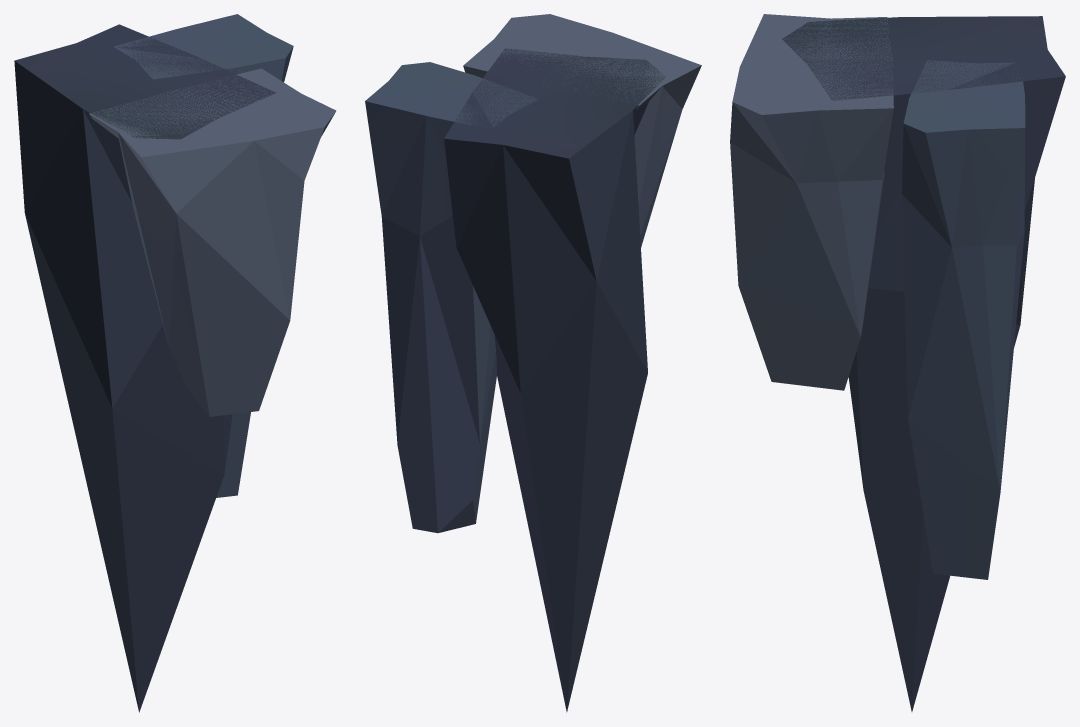
File: sp_rock09.glb
3 views of the same model, side by side, from view 1: azimuth 30°, elevation 25°; view 2: azimuth 150°, elevation 25°; view 3: azimuth 270°, elevation 25° (orthographic). The views are drawn at different scales.
Visible parts, largest first — view 1: SP_Rock09; view 2: SP_Rock09; view 3: SP_Rock09.
Boxes of the visible parts, left/top/right/bottom form: SP_Rock09: left=14, top=14, right=336, bottom=712; SP_Rock09: left=365, top=14, right=701, bottom=712; SP_Rock09: left=730, top=14, right=1065, bottom=711.
Bounding box in the file's own units: 43.76 × 112 × 51.21.
Materials: 1 (1 with a texture image).
